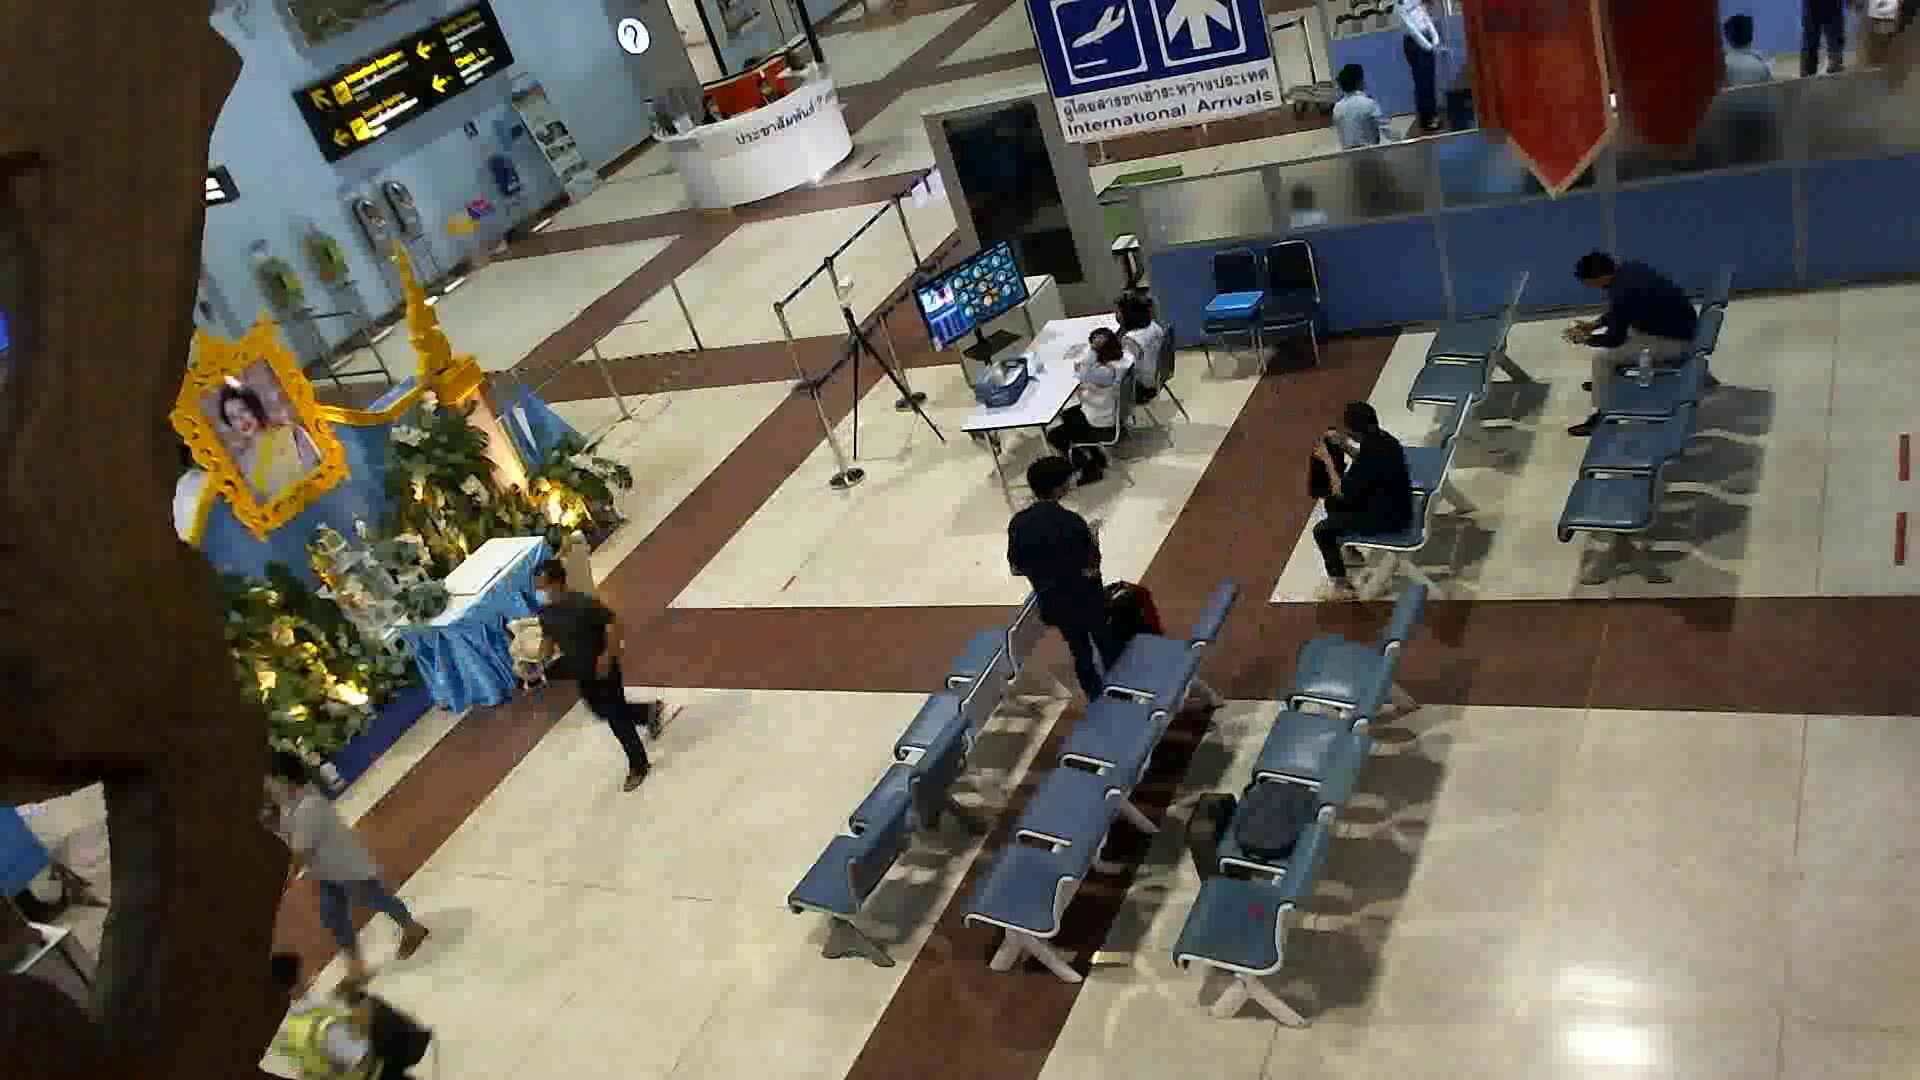backpack: (1239, 772, 1310, 863), (1301, 434, 1353, 499)
luggage: (1091, 576, 1170, 670), (1183, 780, 1241, 895)
people: (260, 745, 437, 980), (516, 545, 676, 797), (1012, 451, 1128, 715), (1568, 243, 1693, 443), (1308, 401, 1418, 613), (264, 953, 433, 1080), (1047, 336, 1128, 484), (1104, 272, 1179, 418)
